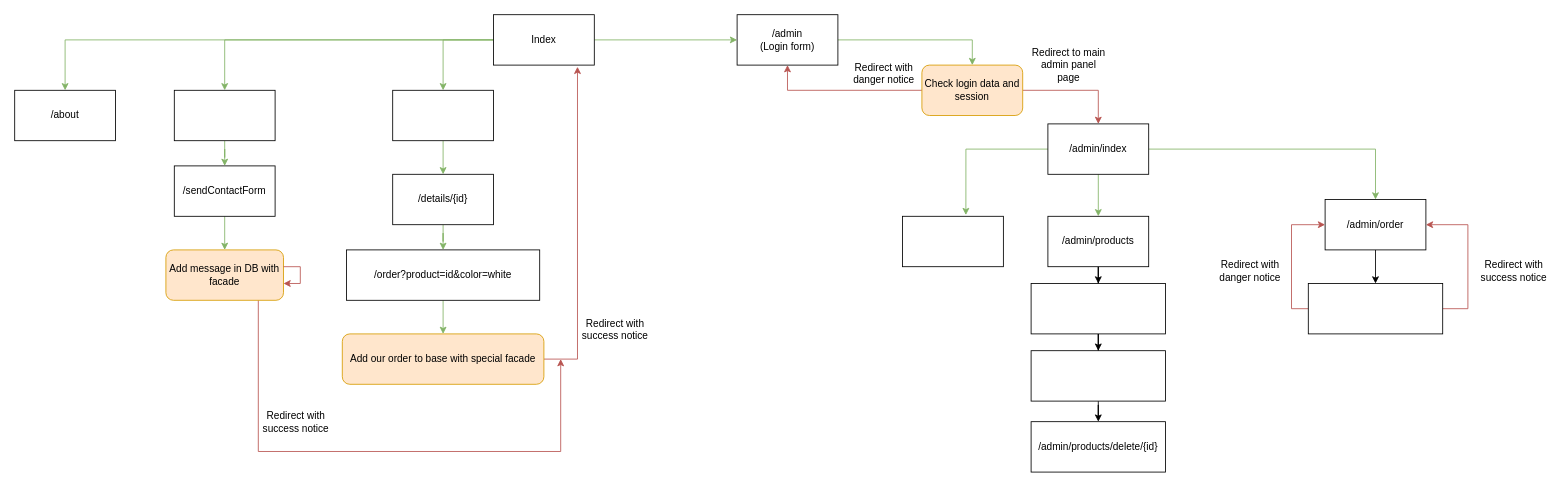
The diagram is 1567 pixels wide and 487 high, and some of its shapes have lost their labels. Each missing label, with the centre of its shape:
"/admin/messages" belongs at point 952,241.
"/admin/products/create" belongs at point 1098,308.
"/admin/products/edit/{id}" belongs at point 1098,375.
"/admin/products/success" belongs at point 1375,308.
"/contact" belongs at point 224,115.
"/shoes" belongs at point 443,115.
